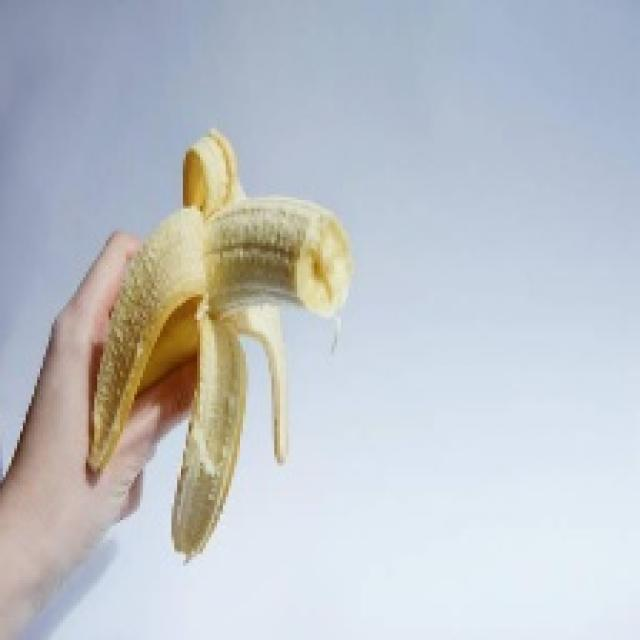Banana: (83, 126, 351, 563)
